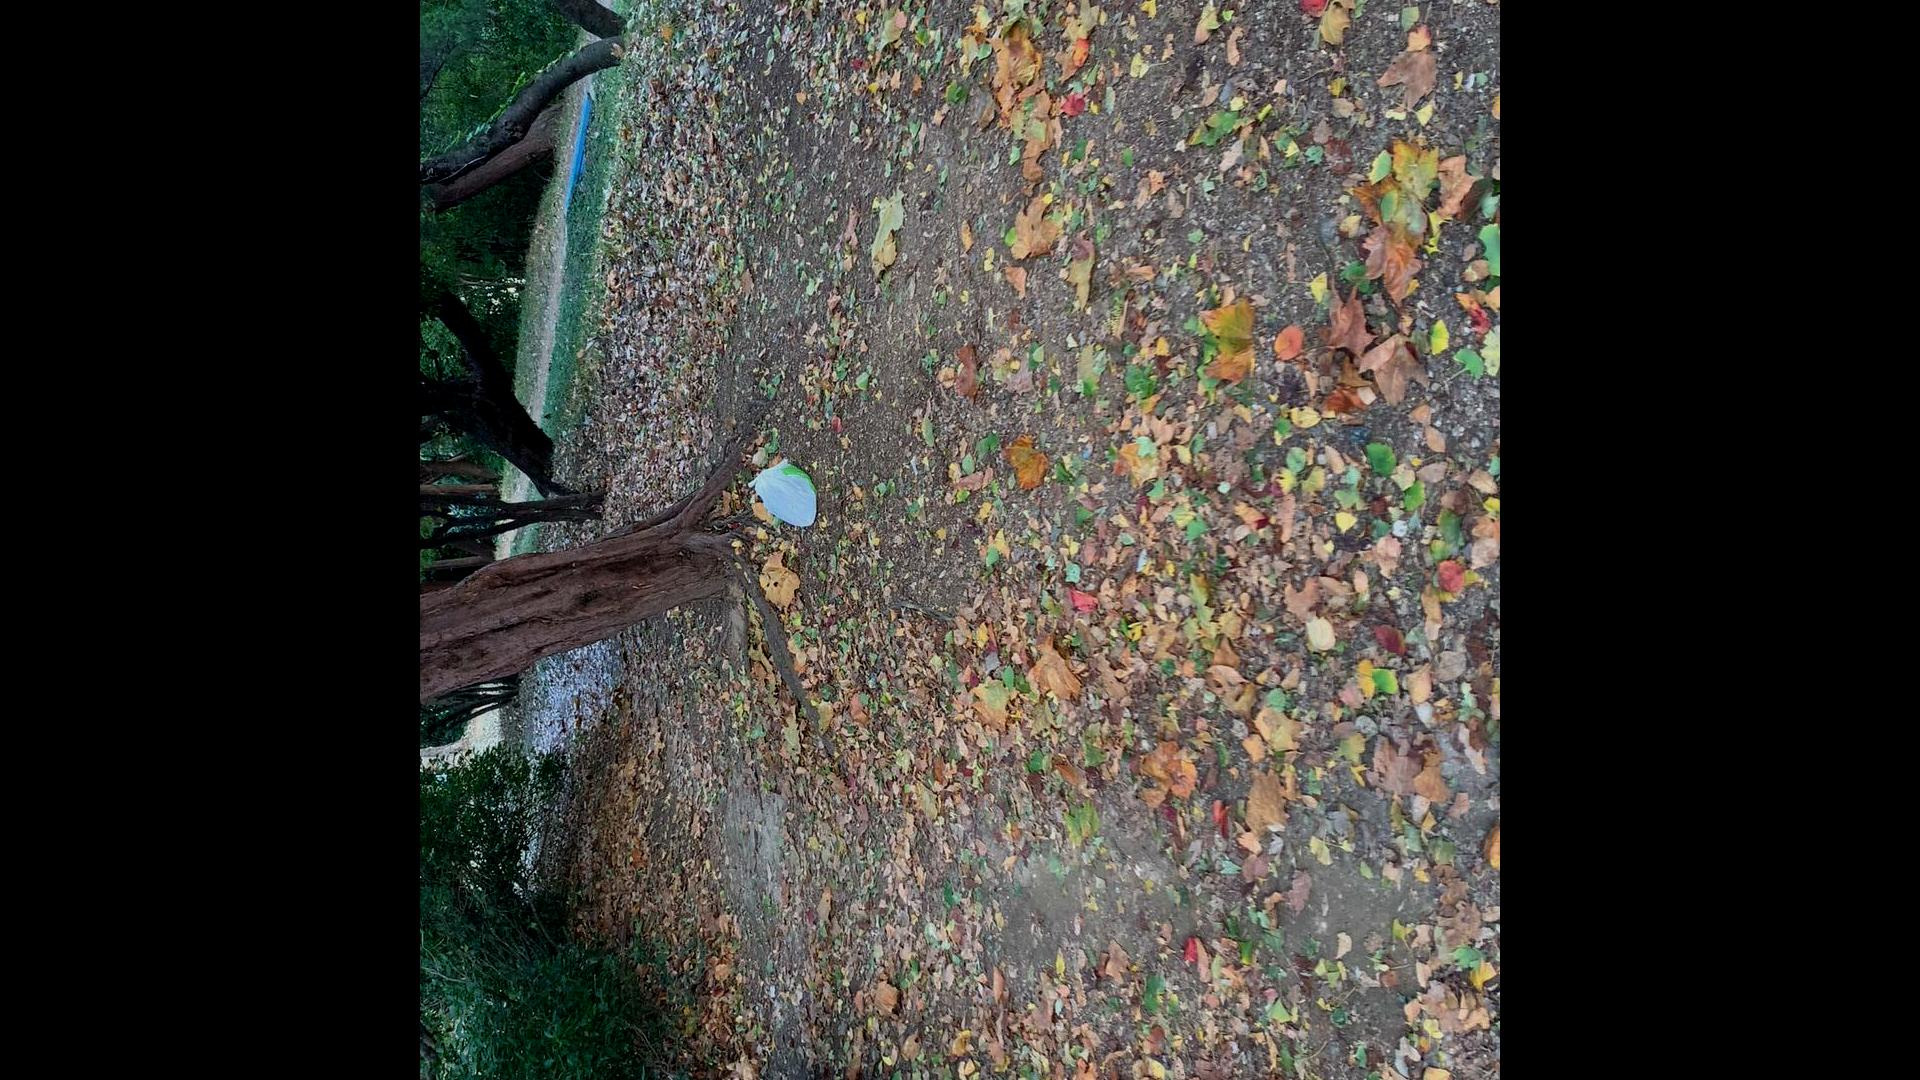white_bag: (740, 456, 831, 542)
